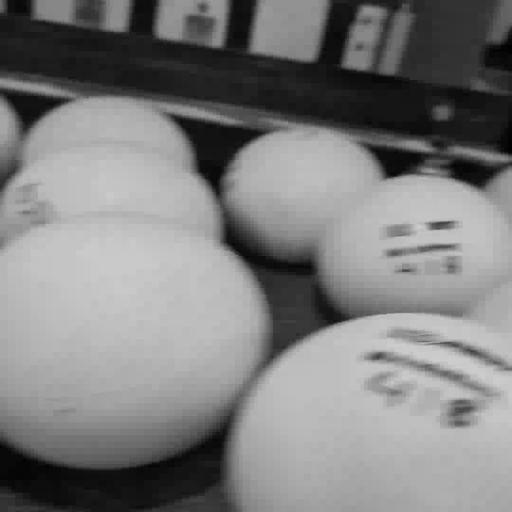fuel: (0, 216, 270, 469), (224, 314, 511, 511), (316, 175, 511, 317), (0, 142, 223, 241), (221, 128, 384, 263), (21, 96, 197, 171), (467, 281, 511, 335), (0, 96, 23, 187), (485, 166, 511, 219)
